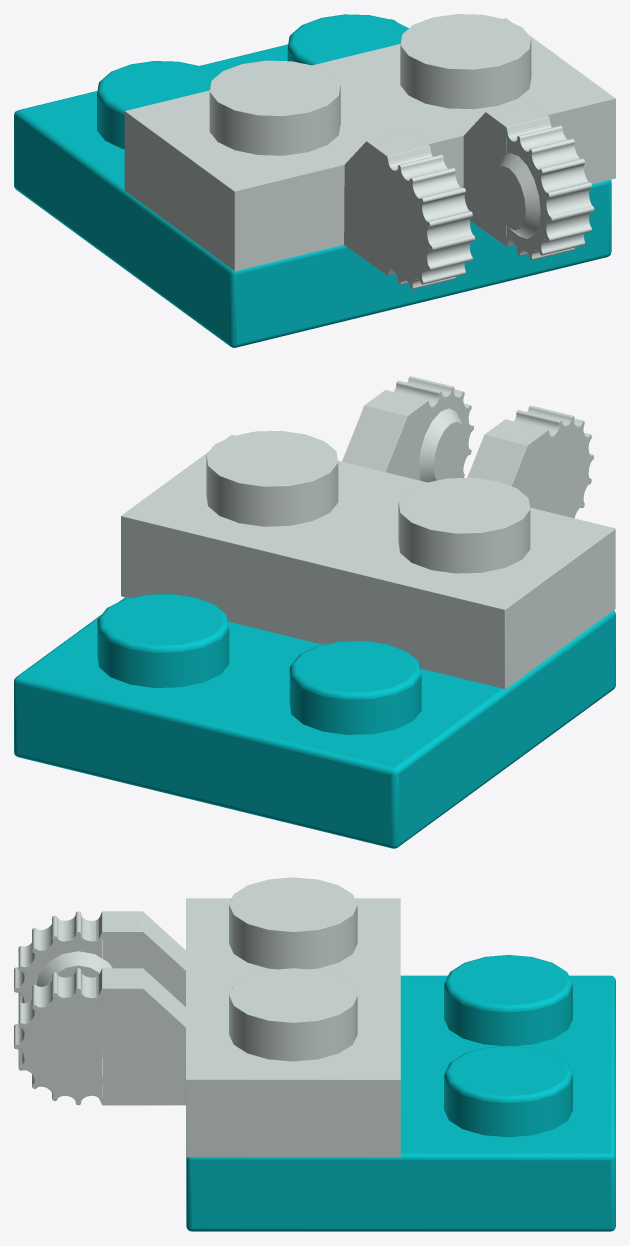
Rendered from Passo38.fbx.
3 renders of one model, top to bottom at view 1: azimuth 30°, elevation 25°; view 2: azimuth 150°, elevation 25°; view 3: azimuth 270°, elevation 25°, orthographic. The views are drawn at different scales.
Parts seen in each view (by area): view 1: Hinge_plate, Plate_2x2; view 2: Hinge_plate, Plate_2x2; view 3: Hinge_plate, Plate_2x2.
Part boxes in pixels (x1=…): Hinge_plate: x1=124, y1=14, x2=615, y2=289; Plate_2x2: x1=14, y1=14, x2=611, y2=347; Hinge_plate: x1=121, y1=376, x2=615, y2=689; Plate_2x2: x1=14, y1=594, x2=615, y2=848; Hinge_plate: x1=14, y1=877, x2=400, y2=1157; Plate_2x2: x1=186, y1=955, x2=615, y2=1231.
Size of the model in its own units: 0.1609 by 0.0796 by 0.2241.
